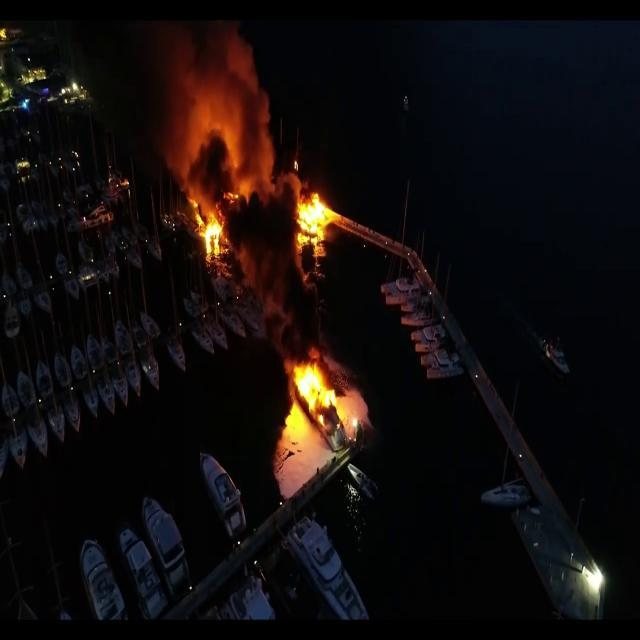Fire: (284, 348, 369, 451), (290, 182, 344, 258), (189, 198, 231, 266)
Smoke: (151, 20, 277, 178)
